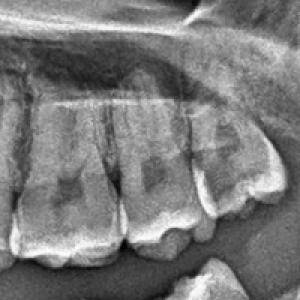tooth: (11, 84, 119, 270), (116, 66, 213, 260), (189, 89, 294, 218)
